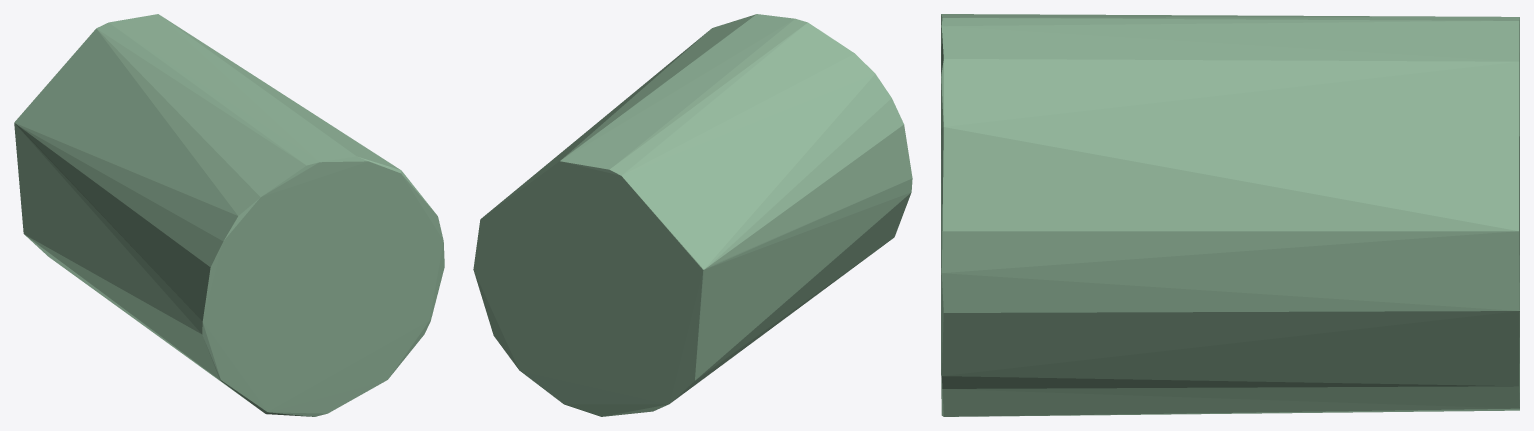
File: food_processed_cannedFood_b01.glb
3 views of the same model, side by side, from view 1: azimuth 30°, elevation 25°; view 2: azimuth 150°, elevation 25°; view 3: azimuth 270°, elevation 25° (orthographic). The views are drawn at different scales.
Parts seen in each view (by area): view 1: geometry_0; view 2: geometry_0; view 3: geometry_0.
Boxes of the visible parts, x1,y1,x2,y2 form: geometry_0: (14,14,444,416); geometry_0: (473,14,912,416); geometry_0: (941,14,1519,416).
Bounding box in the file's own units: 0.3382 × 0.3379 × 0.48.
